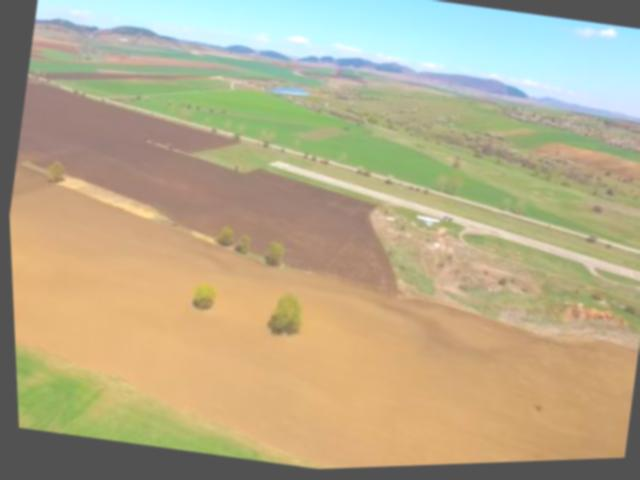uav: (407, 209, 443, 240)
